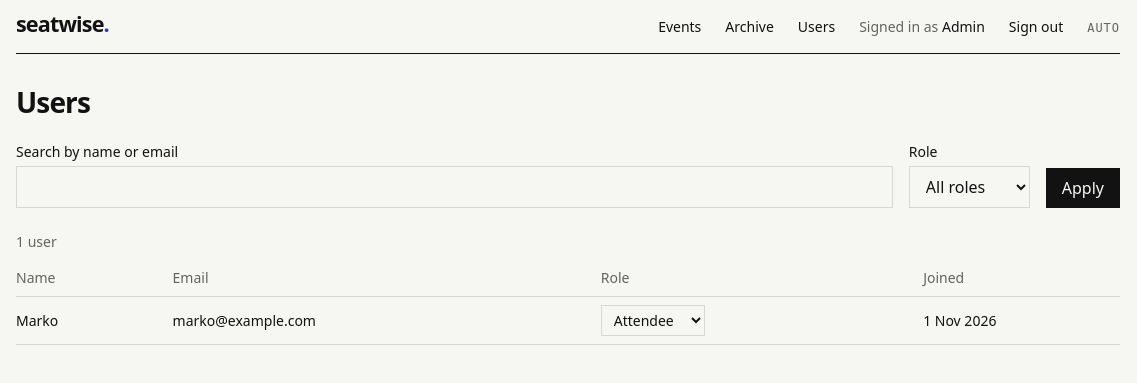
admin users page: list › shows the reason when a change is refused
Select "Admin" in the dropdown named "Role of marko@example.com" at [653, 321], box top-left (601, 306), bottom-right (705, 336)
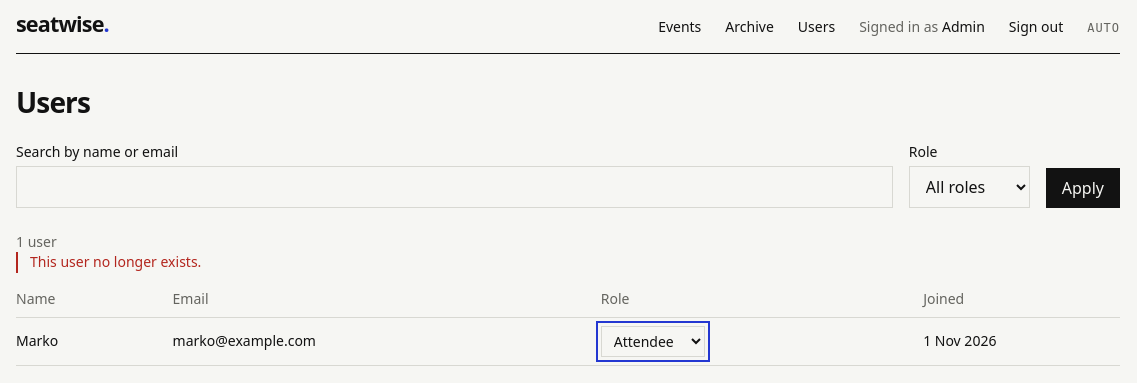
Now the message reads "This user no longer exists.", box top-left (30, 252), bottom-right (201, 272)
